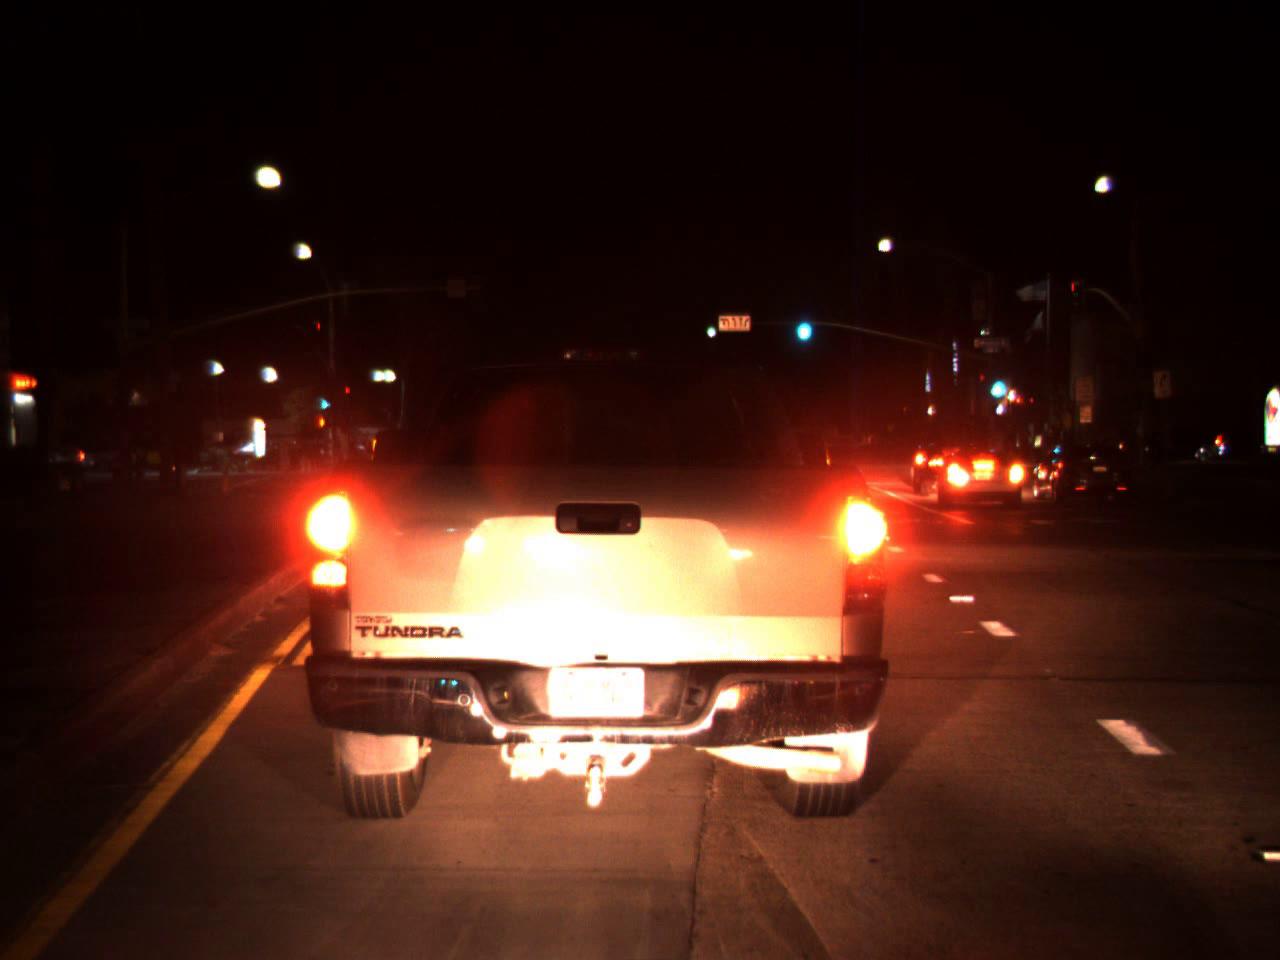go: (985, 359, 1010, 404), (791, 301, 814, 348), (703, 312, 717, 339), (317, 388, 331, 412)
